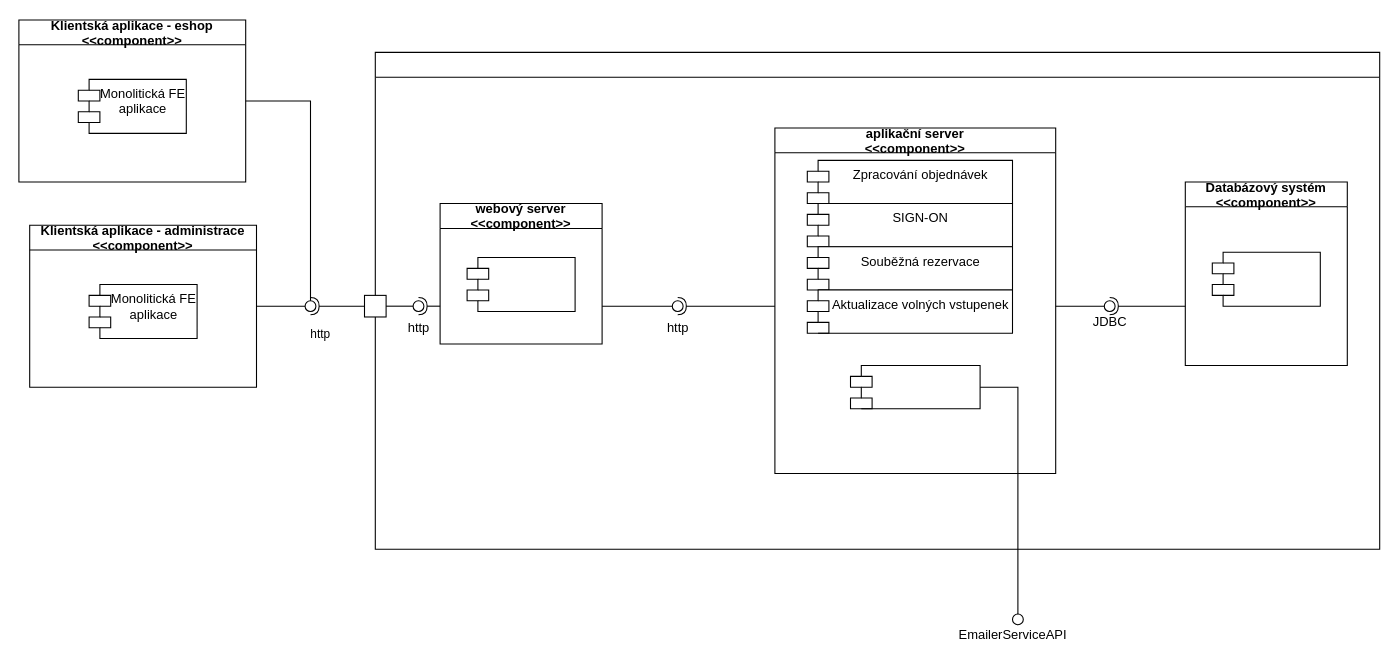
This 1399x671 diagram has some shape labels left out. The box of each missing label's shape, as (x1, y1, x2, y2) in pixels:
Backend: (374, 51, 1380, 549)
DB: (1211, 251, 1320, 306)
Emailer: (849, 364, 980, 409)
Mediátor: (466, 256, 575, 312)
